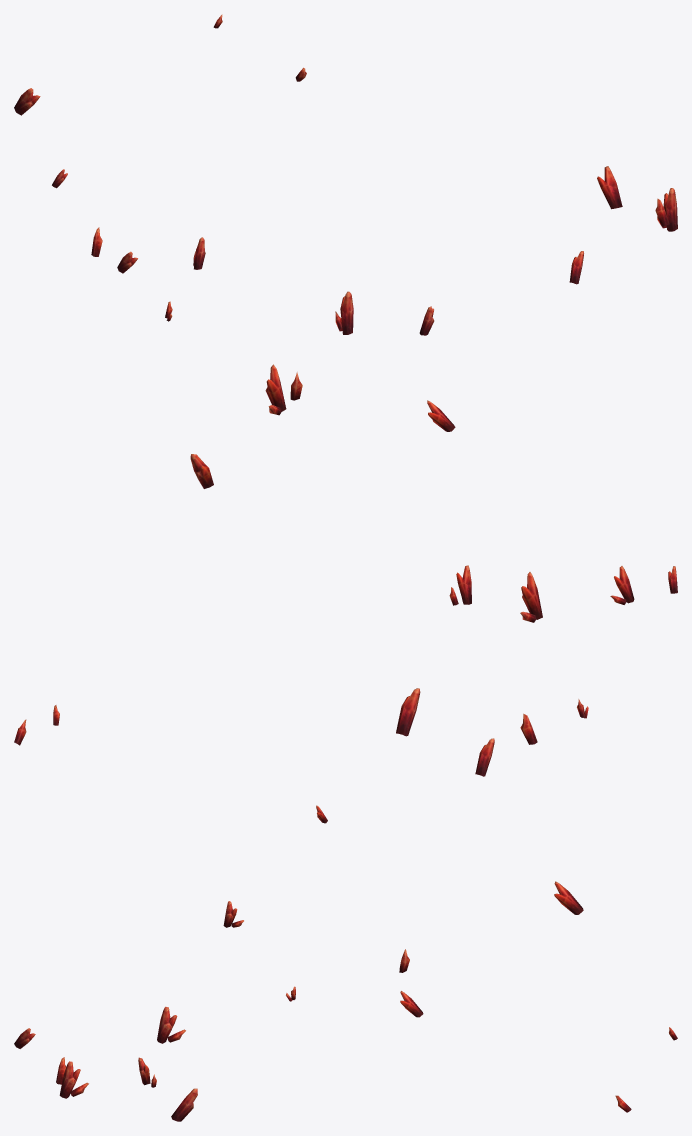
File: area_03_huoshuijing.FBX
The picture shows the model from 3 angles, top to bottom: view 1: azimuth 30°, elevation 25°; view 2: azimuth 150°, elevation 25°; view 3: azimuth 270°, elevation 25°; orthographic projection. The views are drawn at different scales.
Visible parts, largest first — view 1: area_03_huoshuijing; view 2: area_03_huoshuijing; view 3: area_03_huoshuijing.
Part boxes in pixels (x1=…): area_03_huoshuijing: x1=14, y1=14, x2=677, y2=335; area_03_huoshuijing: x1=14, y1=364, x2=677, y2=776; area_03_huoshuijing: x1=14, y1=805, x2=677, y2=1121.
Bounding box in the file's own units: 4527 × 1507 × 5656.
